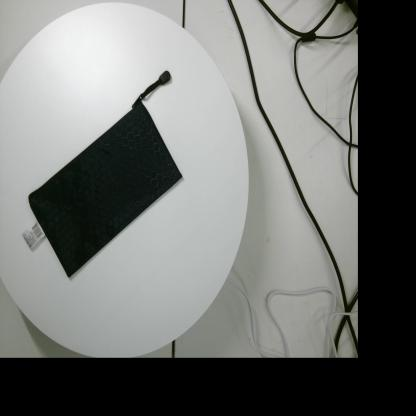Stationery: (22, 70, 183, 278)
